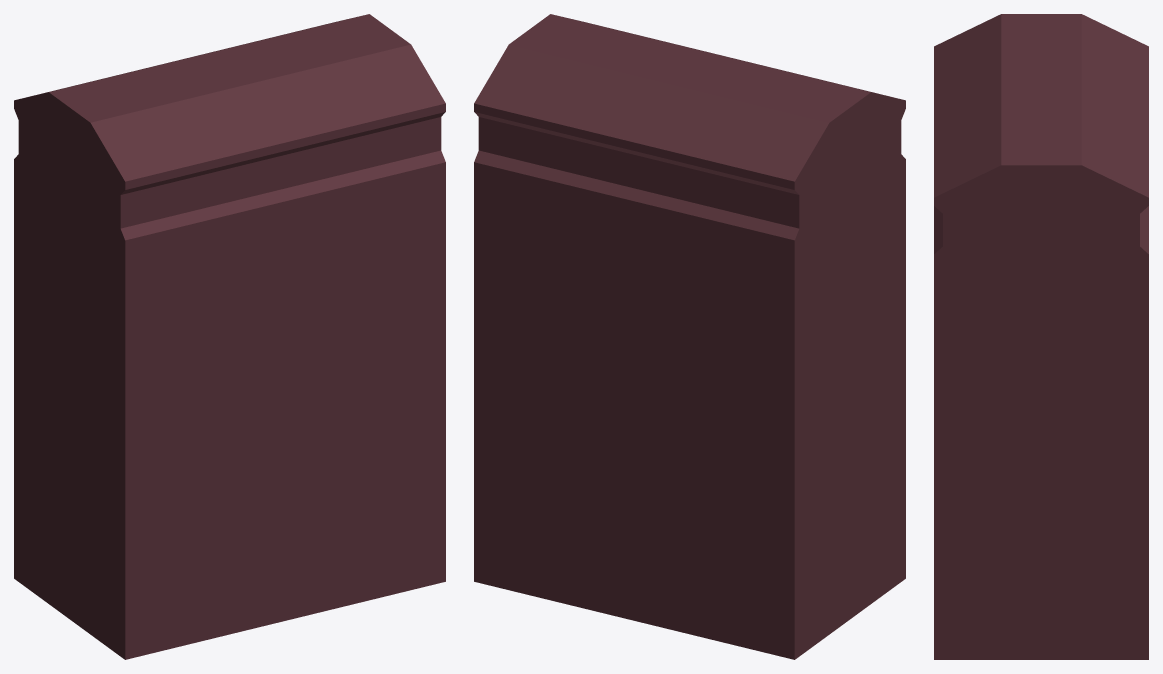
File: india-wall-hindu.glb
The picture shows the model from 3 angles, left to right: view 1: azimuth 30°, elevation 25°; view 2: azimuth 150°, elevation 25°; view 3: azimuth 270°, elevation 25°; orthographic projection. The views are drawn at different scales.
Parts seen in each view (by area): view 1: wall-hindu; view 2: wall-hindu; view 3: wall-hindu.
Boxes of the visible parts, x1,y1,x2,y2 form: wall-hindu: (14,14,445,659); wall-hindu: (474,14,905,659); wall-hindu: (934,14,1148,659).
Bounding box in the file's own units: 4 × 6.1 × 2.4.
